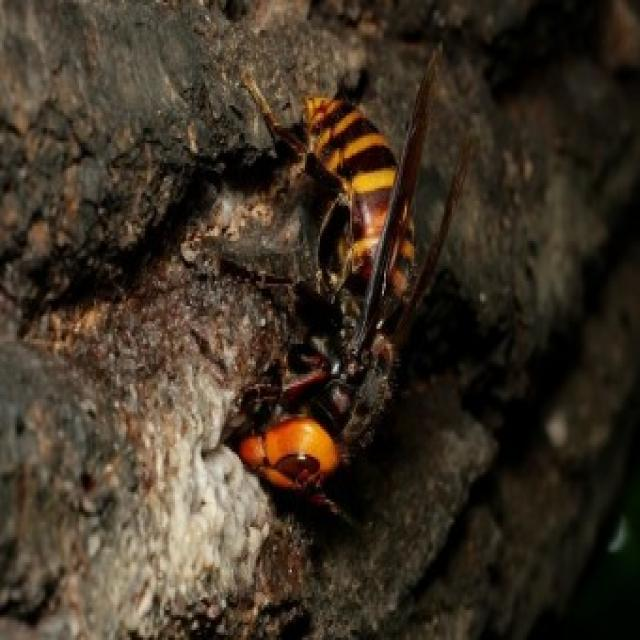Wasp: (214, 63, 463, 513)
